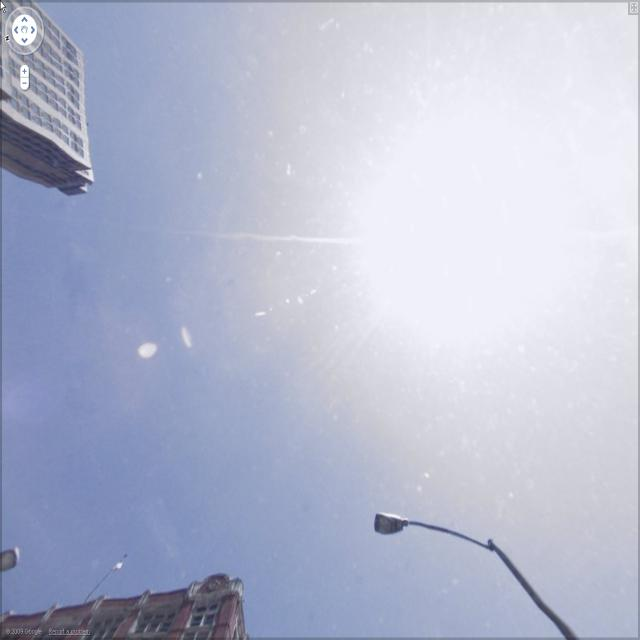b_1: (0, 0, 109, 198), (26, 566, 254, 640)
